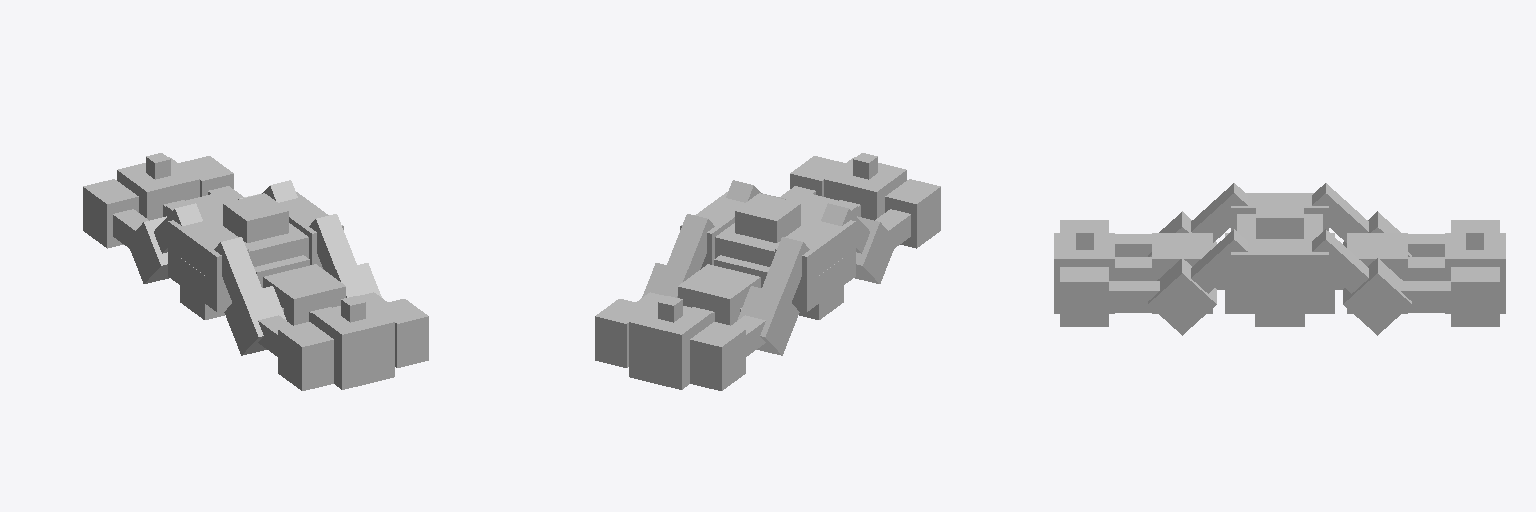
The model's file is frame.obj.
The picture shows the model from 3 angles: view 1: azimuth 30°, elevation 25°; view 2: azimuth 150°, elevation 25°; view 3: azimuth 270°, elevation 25°; orthographic projection.
Parts seen in each view (by area): view 1: cube.045; view 2: cube.045; view 3: cube.045.
Boxes of the visible parts, <box> form: cube.045: <box>83,153,428,390</box>; cube.045: <box>595,153,940,390</box>; cube.045: <box>1054,183,1505,335</box>.
Size of the model in its own units: 1.51 by 1.1 by 4.62.